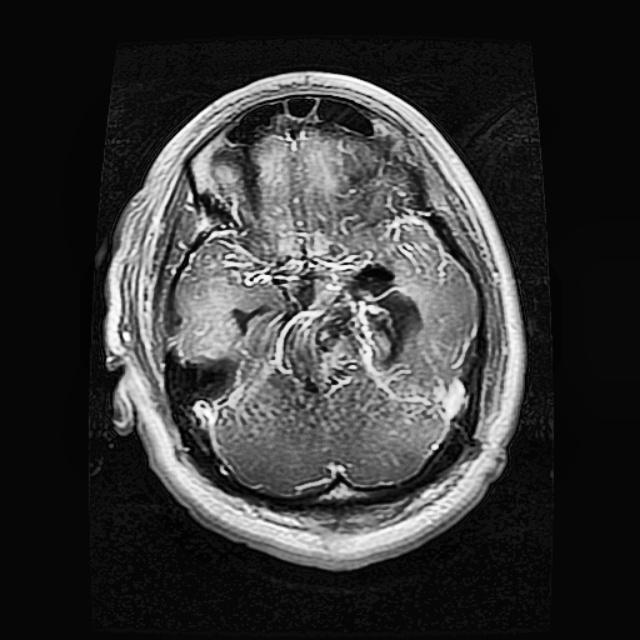Glioma: (273, 262, 427, 393)
